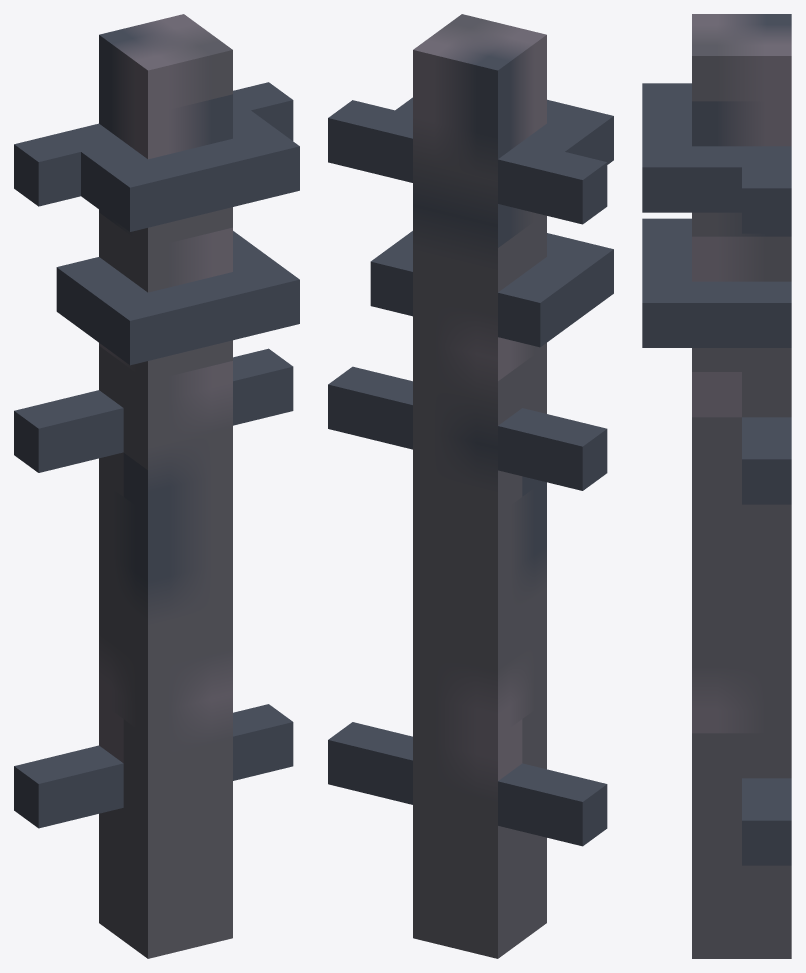
Rendered from Fence_Spike.fbx.
3 views of the same model, side by side, from view 1: azimuth 30°, elevation 25°; view 2: azimuth 150°, elevation 25°; view 3: azimuth 270°, elevation 25° (orthographic).
Visible parts, largest first — view 1: Fence_Spike; view 2: Fence_Spike; view 3: Fence_Spike.
Part boxes in pixels (x1,y1,x2,y2): Fence_Spike: [14, 14, 299, 958]; Fence_Spike: [328, 14, 613, 958]; Fence_Spike: [642, 14, 791, 958].
Bounding box in the file's own units: 30 × 100 × 15.
